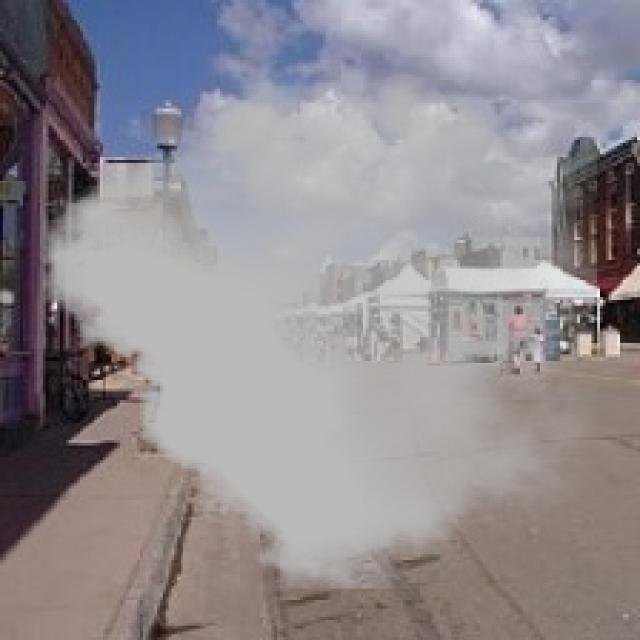smoke: (43, 69, 597, 588)
